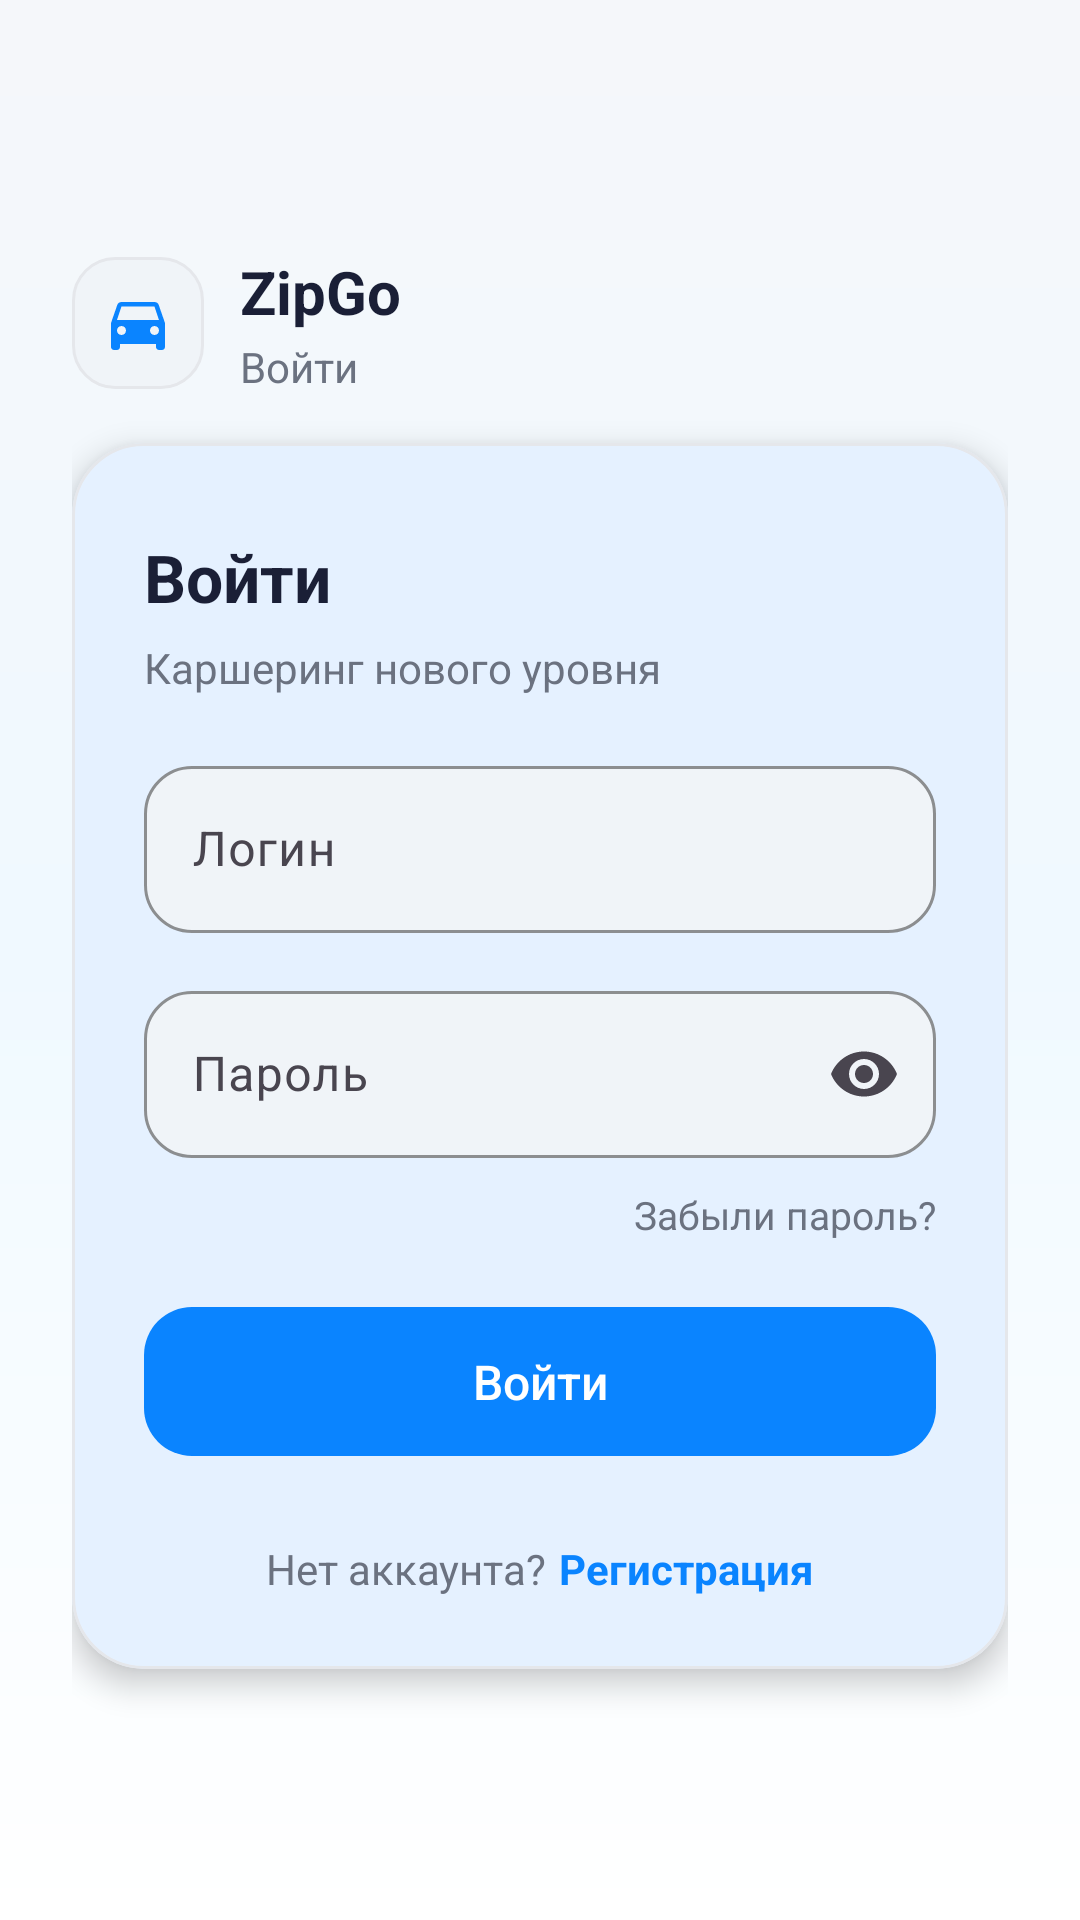

Screen size 1080*1920. Icon name, then its center in pixels as [x,y]:
car: [138,326]
